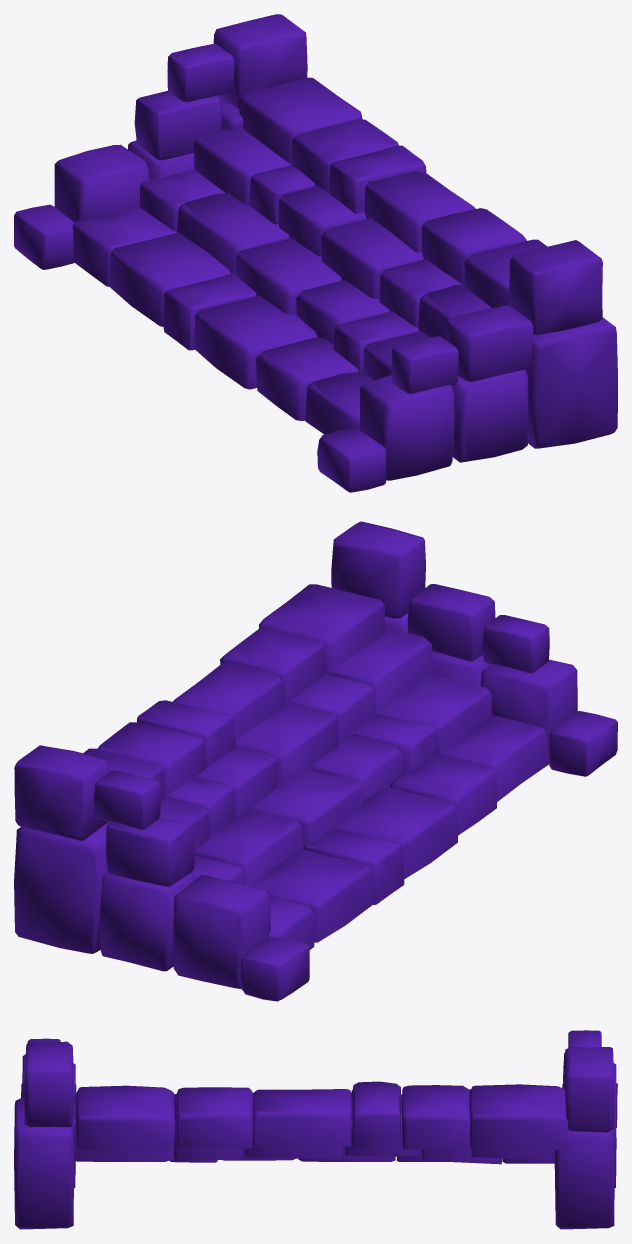
The model's file is stairs_02.FBX.
The picture shows the model from 3 angles, top to bottom: view 1: azimuth 30°, elevation 25°; view 2: azimuth 150°, elevation 25°; view 3: azimuth 270°, elevation 25°; orthographic projection. The views are drawn at different scales.
Parts seen in each view (by area): view 1: stairs_02; view 2: stairs_02; view 3: stairs_02.
Boxes of the visible parts, bbox=[...] form: stairs_02: bbox=[14, 14, 617, 492]; stairs_02: bbox=[14, 521, 617, 1001]; stairs_02: bbox=[14, 1030, 617, 1229].
Bounding box in the file's own units: 47.01 × 28.79 × 101.
